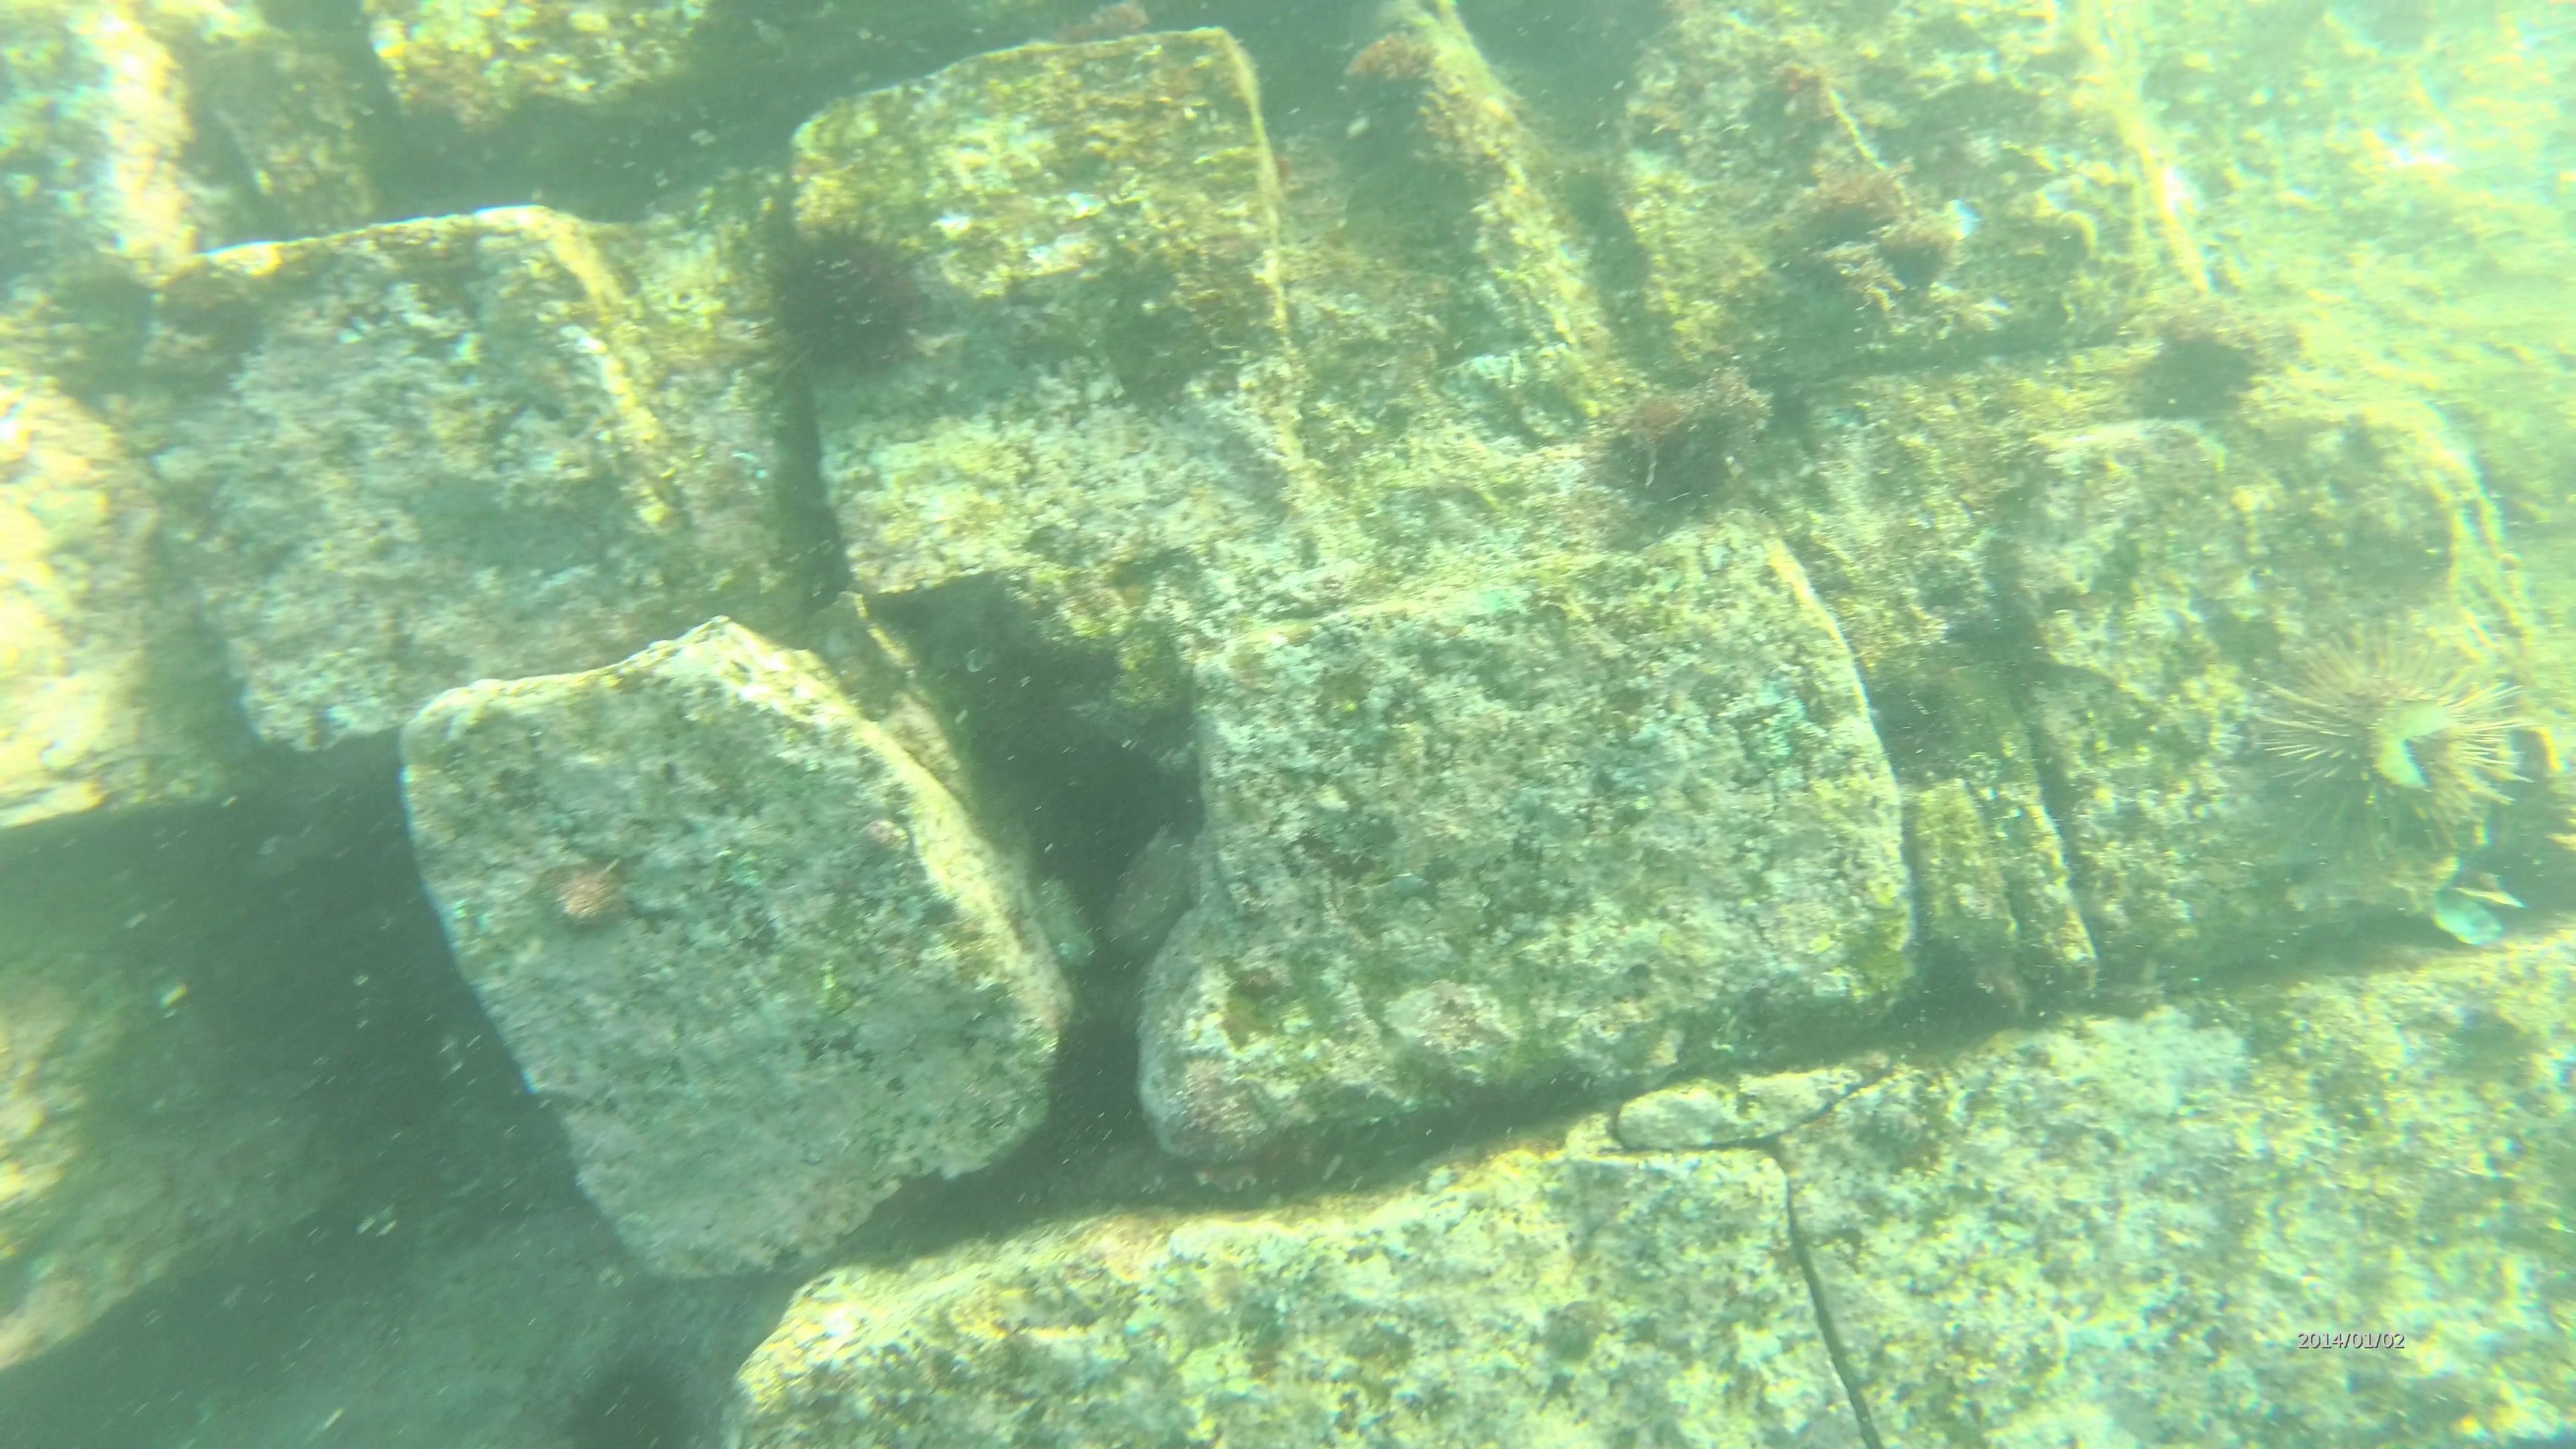echinus: (2249, 612, 2541, 931), (752, 211, 927, 409)
scallop: (1343, 25, 1454, 106), (531, 860, 644, 934)
